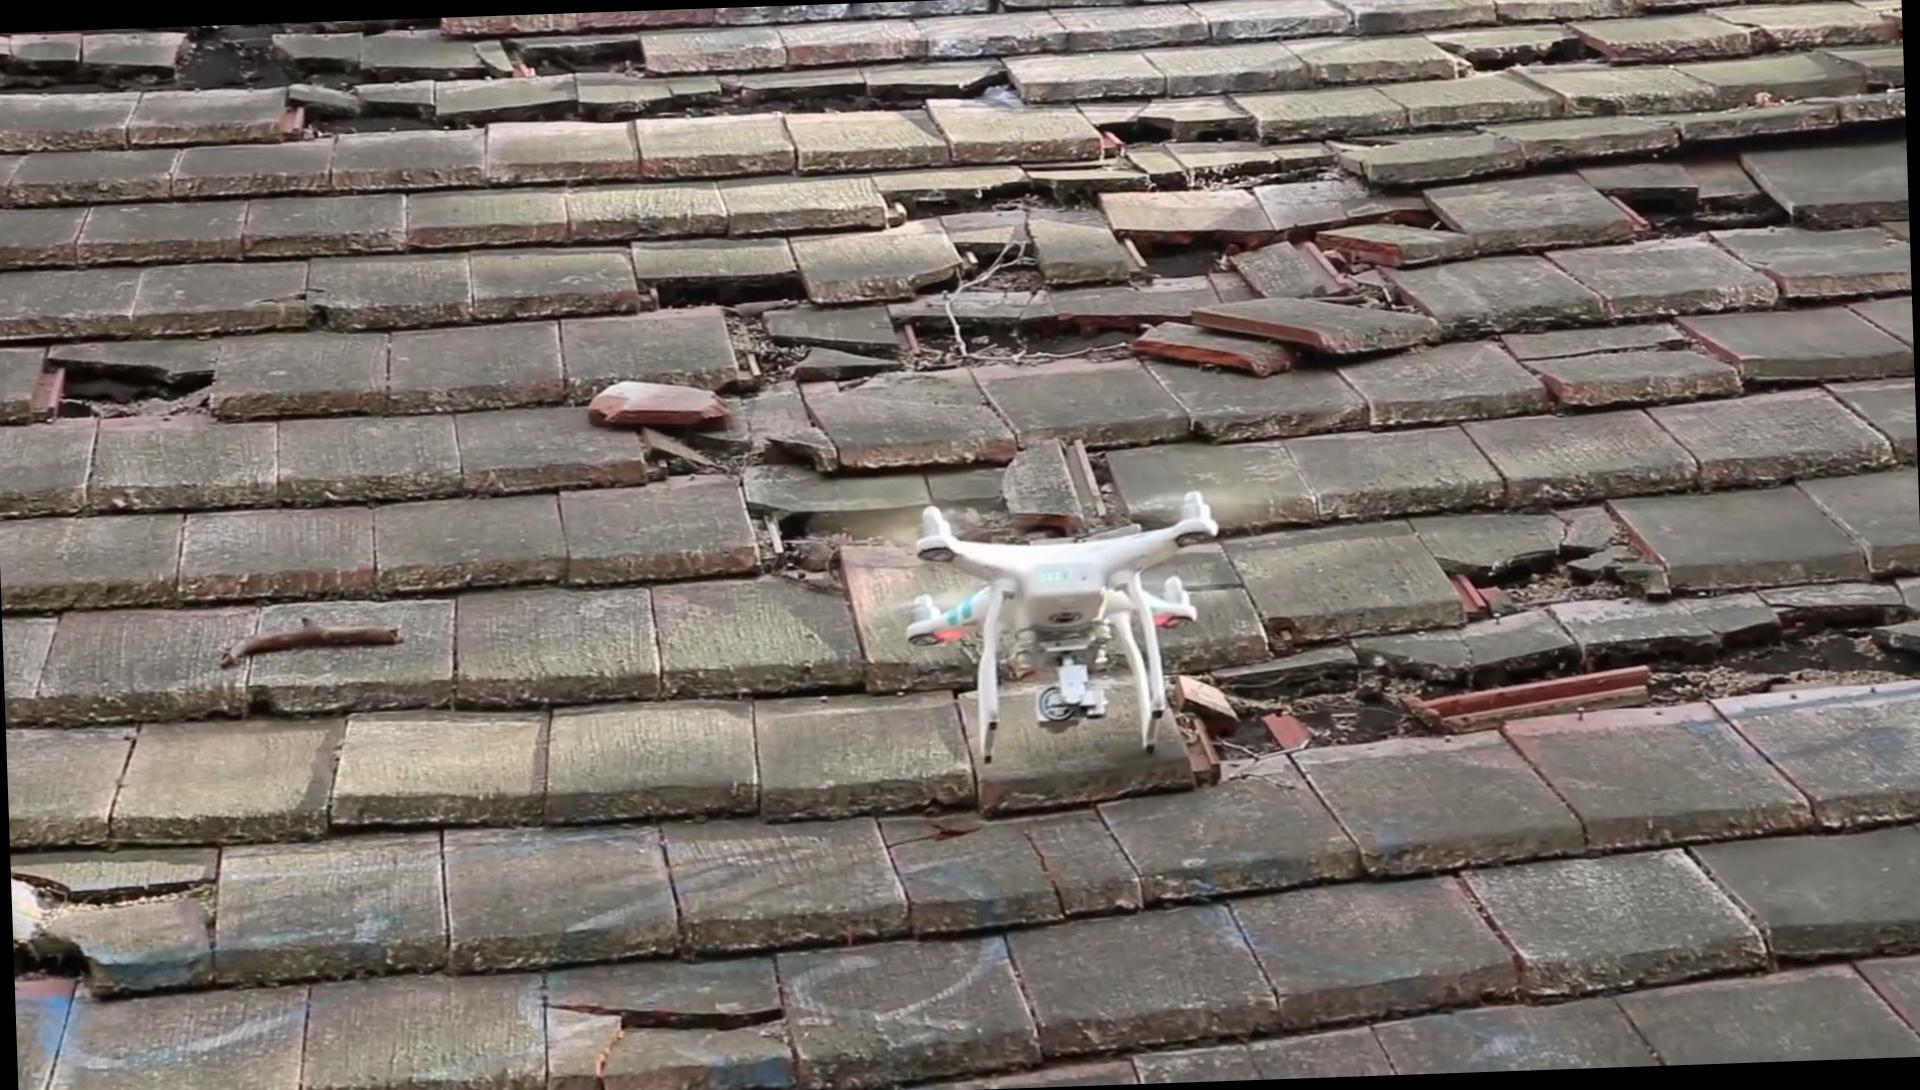drone: (887, 477, 1236, 771)
